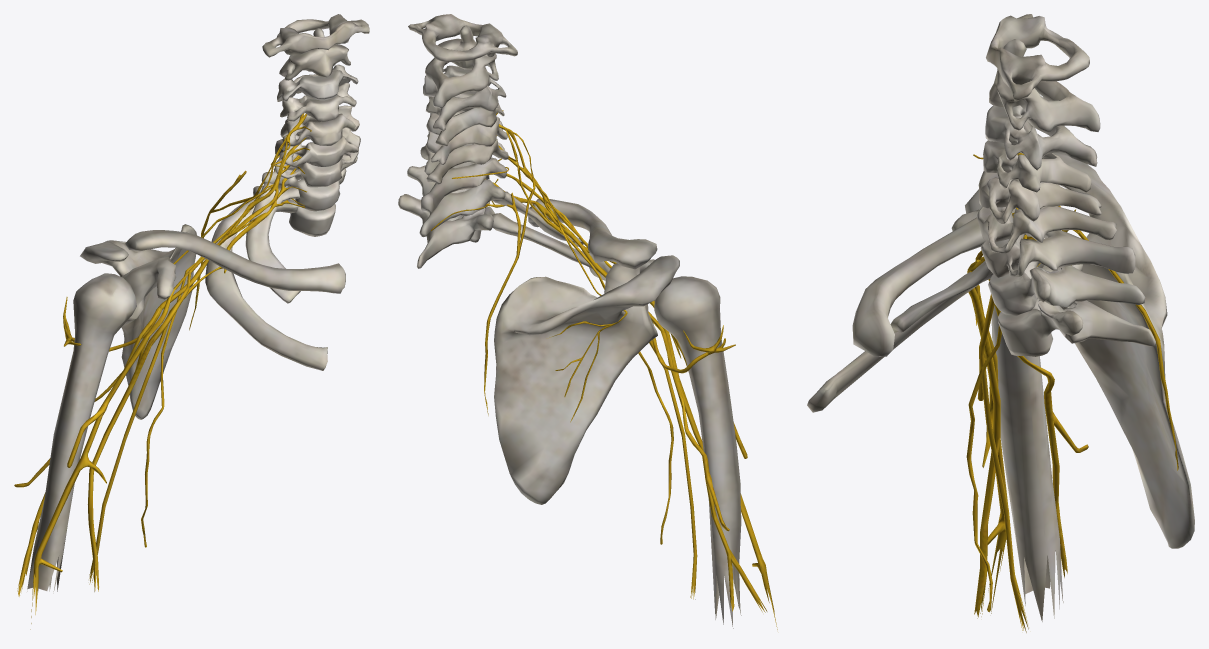
File: brachial-plexus.glb
3 views of the same model, side by side, from view 1: azimuth 30°, elevation 25°; view 2: azimuth 150°, elevation 25°; view 3: azimuth 270°, elevation 25° (orthographic). The views are drawn at different scales.
Parts seen in each view (by area): view 1: Right_humerus, Right_scapula, Right_clavicle, Right_2nd_rib, Right_musculocutaneous_nerve, Atlas__C1__vertebra, Right_1st_rib, Right_median_nerve, C5_vertebra, C3_vertebra, C6_vertebra, Axis__C2__vertebra (+8 smaller); view 2: Right_scapula, Right_humerus, Right_clavicle, Atlas__C1__vertebra, Axis__C2__vertebra, T2_vertebra, T1_vertebra, C7_vertebra, Right_radial_nerve, C3_vertebra, C6_vertebra, Right_2nd_rib (+10 smaller); view 3: Right_scapula, Right_humerus, Right_clavicle, T2_vertebra, T1_vertebra, Atlas__C1__vertebra, C7_vertebra, Axis__C2__vertebra, C3_vertebra, C6_vertebra, C5_vertebra, C4_vertebra (+8 smaller).
Part boxes in pixels (x1=…): Right_humerus: x1=27, y1=273, x2=136, y2=593; Right_scapula: x1=80, y1=224, x2=196, y2=419; Right_clavicle: x1=125, y1=230, x2=345, y2=293; Right_2nd_rib: x1=205, y1=192, x2=327, y2=370; Right_musculocutaneous_nerve: x1=30, y1=272, x2=188, y2=629; Atlas__C1__vertebra: x1=262, y1=14, x2=369, y2=57; Right_1st_rib: x1=245, y1=182, x2=300, y2=303; Right_median_nerve: x1=87, y1=272, x2=191, y2=591; C5_vertebra: x1=280, y1=105, x2=359, y2=146; C3_vertebra: x1=277, y1=64, x2=358, y2=101; C6_vertebra: x1=281, y1=128, x2=360, y2=167; Axis__C2__vertebra: x1=279, y1=28, x2=350, y2=80; Right_scapula: x1=494, y1=255, x2=679, y2=504; Right_humerus: x1=654, y1=276, x2=741, y2=628; Right_clavicle: x1=528, y1=199, x2=657, y2=269; Atlas__C1__vertebra: x1=408, y1=14, x2=517, y2=62; Axis__C2__vertebra: x1=425, y1=25, x2=498, y2=108; T2_vertebra: x1=398, y1=194, x2=493, y2=268; T1_vertebra: x1=407, y1=165, x2=505, y2=237; C7_vertebra: x1=420, y1=143, x2=506, y2=212; Right_radial_nerve: x1=648, y1=311, x2=767, y2=612; C3_vertebra: x1=423, y1=65, x2=506, y2=131; C6_vertebra: x1=426, y1=131, x2=508, y2=184; Right_2nd_rib: x1=484, y1=206, x2=610, y2=280; Right_scapula: x1=951, y1=152, x2=1194, y2=548; Right_humerus: x1=965, y1=189, x2=1063, y2=621; Right_clavicle: x1=852, y1=179, x2=1059, y2=356; T2_vertebra: x1=998, y1=264, x2=1155, y2=356; T1_vertebra: x1=988, y1=238, x2=1145, y2=315; Atlas__C1__vertebra: x1=986, y1=14, x2=1089, y2=101; C7_vertebra: x1=980, y1=209, x2=1135, y2=277; Axis__C2__vertebra: x1=989, y1=39, x2=1100, y2=133; C3_vertebra: x1=985, y1=105, x2=1097, y2=170; C6_vertebra: x1=976, y1=206, x2=1116, y2=253; C5_vertebra: x1=978, y1=152, x2=1101, y2=223; C4_vertebra: x1=983, y1=120, x2=1091, y2=192.
Size of the model in its own units: 0.2692 by 0.3907 by 0.1711.
35 materials, 35 textured.
